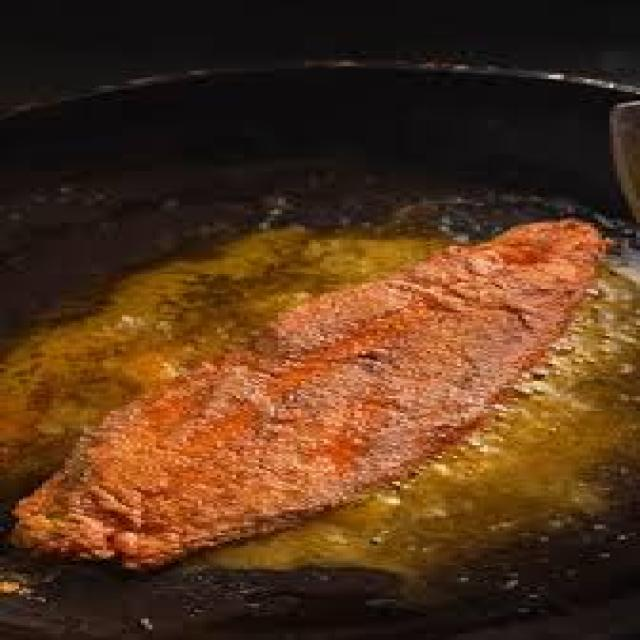DOSA: (0, 203, 636, 601)
